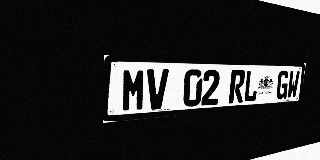0: (183, 69, 203, 107)
2: (201, 69, 220, 106)
G: (275, 70, 290, 100)
L: (243, 70, 259, 102)
M: (121, 68, 146, 112)
R: (228, 70, 246, 103)
V: (146, 69, 169, 110)
W: (286, 71, 300, 99)
